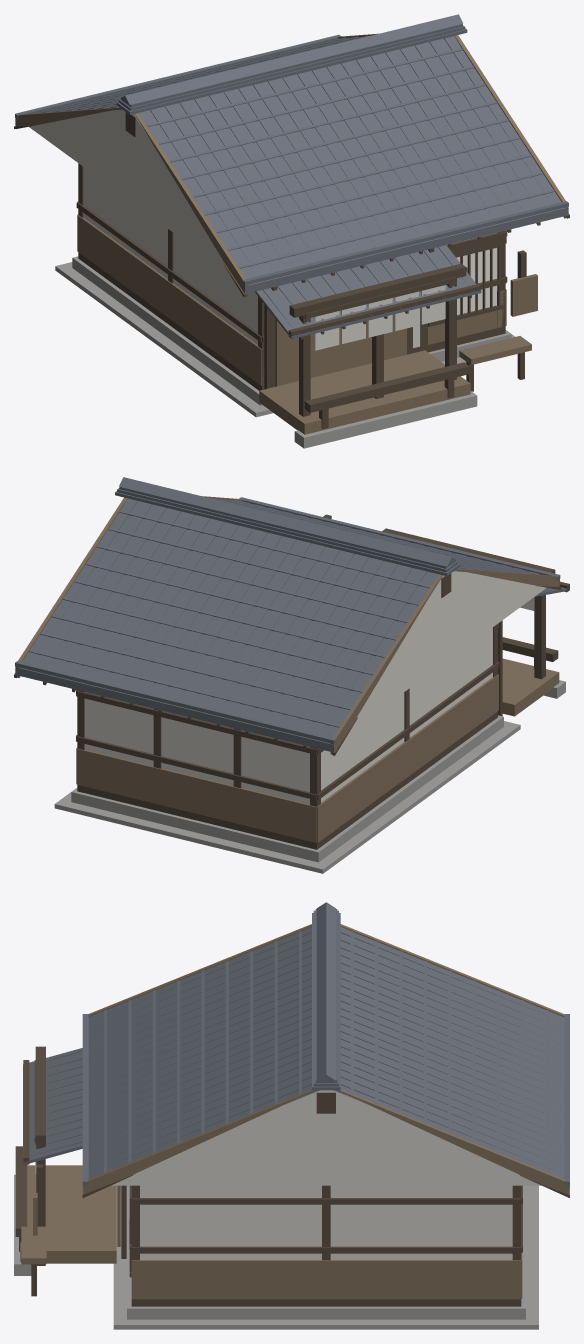
Rendered from pilot_shop_01.glb.
The picture shows the model from 3 angles, top to bottom: view 1: azimuth 30°, elevation 25°; view 2: azimuth 150°, elevation 25°; view 3: azimuth 270°, elevation 25°; orthographic projection. The views are drawn at different scales.
Parts seen in each view (by area): view 1: pilot_shop_01; view 2: pilot_shop_01; view 3: pilot_shop_01.
Boxes of the visible parts, x1,y1,x2,y2 form: pilot_shop_01: [14, 14, 569, 448]; pilot_shop_01: [14, 477, 569, 873]; pilot_shop_01: [14, 902, 569, 1329].
Bounding box in the file's own units: 7.2 × 5.22 × 9.7.
